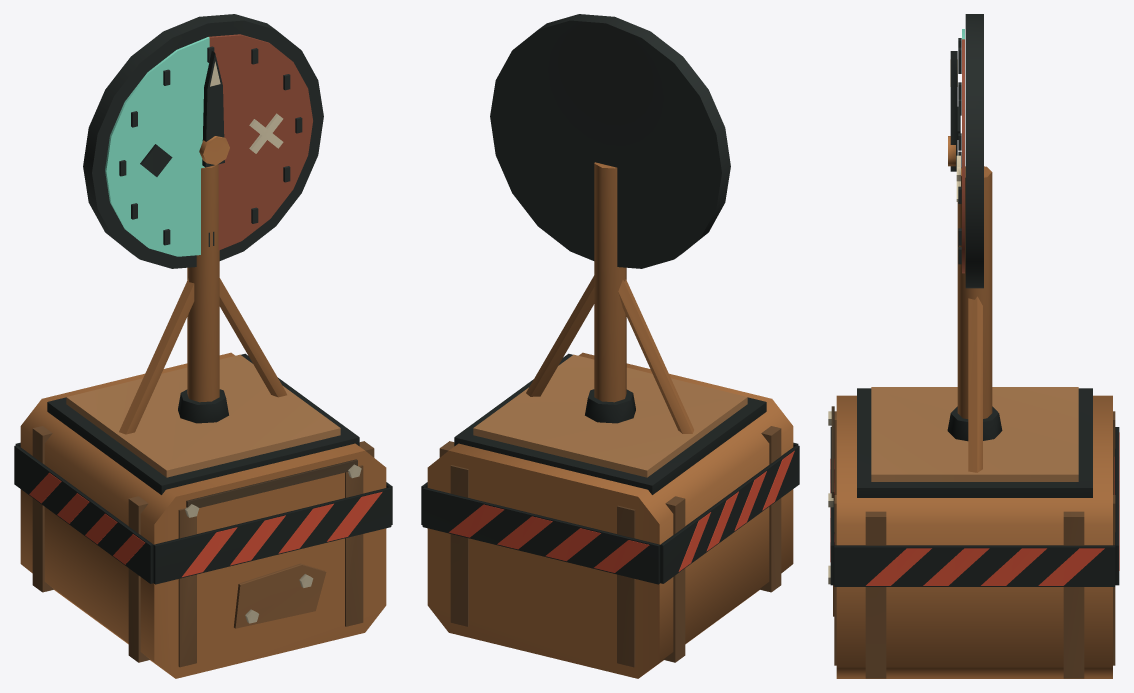
Rendered from bet_crate.glb.
3 renders of one model, left to right at view 1: azimuth 30°, elevation 25°; view 2: azimuth 150°, elevation 25°; view 3: azimuth 270°, elevation 25°, orthographic. The views are drawn at different scales.
Parts seen in each view (by area): view 1: BetHousing, OddsDial, OddsNeedle; view 2: BetHousing, OddsDial; view 3: BetHousing, OddsDial, OddsNeedle.
Part boxes in pixels (left/top/right/bottom): BetHousing: left=14, top=164, right=392, bottom=678; OddsDial: left=83, top=14, right=323, bottom=268; OddsNeedle: left=199, top=51, right=229, bottom=167; BetHousing: left=421, top=162, right=799, bottom=678; OddsDial: left=490, top=14, right=730, bottom=268; BetHousing: left=828, top=166, right=1119, bottom=678; OddsDial: left=956, top=14, right=983, bottom=288; OddsNeedle: left=948, top=51, right=957, bottom=171.
Size of the model in its own units: 2.51 by 5.8 by 2.53.
